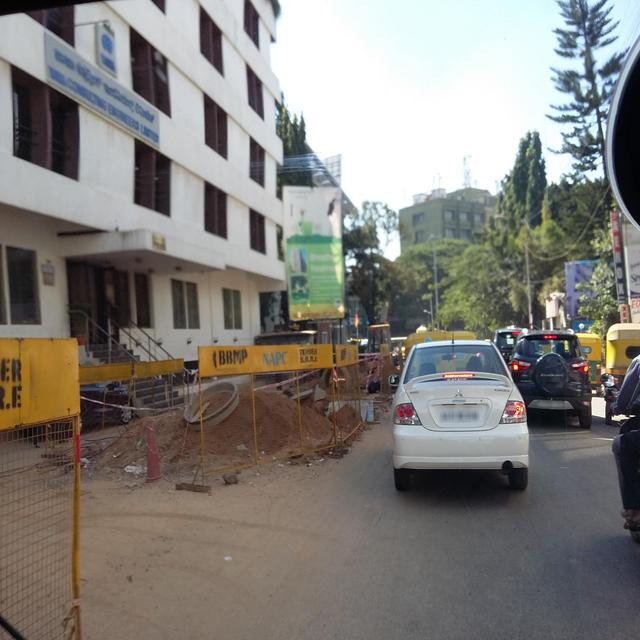Billboard: (43, 28, 160, 150), (564, 210, 639, 332), (282, 185, 344, 321), (95, 21, 116, 76)
Car: (388, 313, 592, 490)
Motorcycle: (600, 373, 639, 434), (628, 529, 639, 542)
Vegetation: (435, 0, 633, 366), (342, 202, 436, 336)
